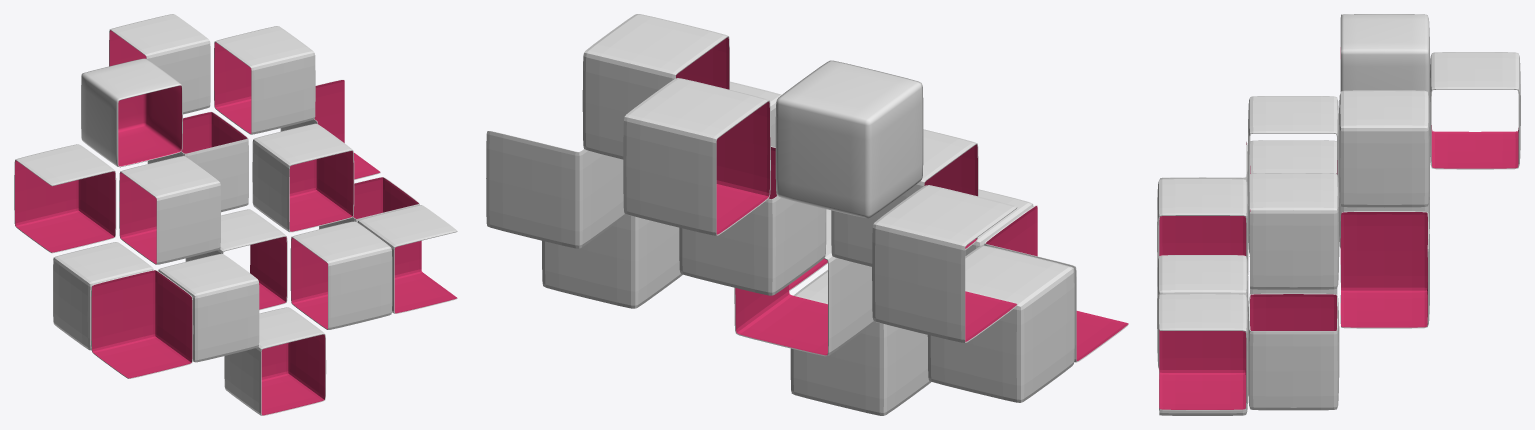
The model's file is qbos.fbx.
3 views of the same model, side by side, from view 1: azimuth 30°, elevation 25°; view 2: azimuth 150°, elevation 25°; view 3: azimuth 270°, elevation 25° (orthographic). The views are drawn at different scales.
Visible parts, largest first — view 1: Cube.030, Cube.016, Cube.029, Cube.022, Cube.019, Cube.024, Cube.026, Cube.021, Cube.020, Cube.031, Cube.023, Cube.028 (+4 smaller); view 2: Cube.024, Cube.031, Cube.030, Cube.028, Cube.027, Cube.026, Cube.025, Cube.021, Cube.017, Cube.018, Cube.019, Cube.029 (+2 smaller); view 3: Cube.026, Cube.017, Cube.027, Cube.023, Cube.016, Cube.031, Cube.020, Cube.024, Cube.022, Cube.019, Cube.028, Cube.025 (+2 smaller).
Part boxes in pixels (x1,y1,x2,y2): Cube.030: [14, 144, 116, 253]; Cube.016: [252, 123, 354, 232]; Cube.029: [91, 270, 193, 378]; Cube.022: [290, 221, 392, 329]; Cube.019: [119, 156, 220, 264]; Cube.024: [81, 58, 182, 167]; Cube.026: [214, 26, 315, 134]; Cube.021: [224, 307, 326, 415]; Cube.020: [158, 253, 259, 362]; Cube.031: [109, 14, 210, 114]; Cube.023: [357, 205, 457, 313]; Cube.028: [53, 242, 153, 350]; Cube.024: [775, 60, 923, 218]; Cube.031: [623, 78, 770, 235]; Cube.030: [872, 185, 1017, 342]; Cube.028: [927, 245, 1074, 402]; Cube.027: [486, 131, 626, 248]; Cube.026: [582, 14, 729, 159]; Cube.025: [679, 146, 826, 295]; Cube.021: [790, 270, 931, 415]; Cube.017: [542, 214, 682, 308]; Cube.018: [734, 209, 875, 356]; Cube.019: [831, 129, 978, 266]; Cube.029: [984, 205, 1128, 362]; Cube.026: [1338, 90, 1429, 207]; Cube.017: [1248, 293, 1339, 410]; Cube.027: [1340, 211, 1429, 328]; Cube.023: [1159, 293, 1248, 410]; Cube.016: [1249, 173, 1339, 289]; Cube.031: [1429, 52, 1520, 169]; Cube.020: [1157, 178, 1248, 274]; Cube.024: [1340, 14, 1429, 104]; Cube.022: [1157, 255, 1248, 369]; Cube.019: [1248, 96, 1338, 210]; Cube.028: [1248, 140, 1336, 254]; Cube.025: [1338, 175, 1429, 248].
Bounding box in the file's own units: 1001 × 801 × 801.
